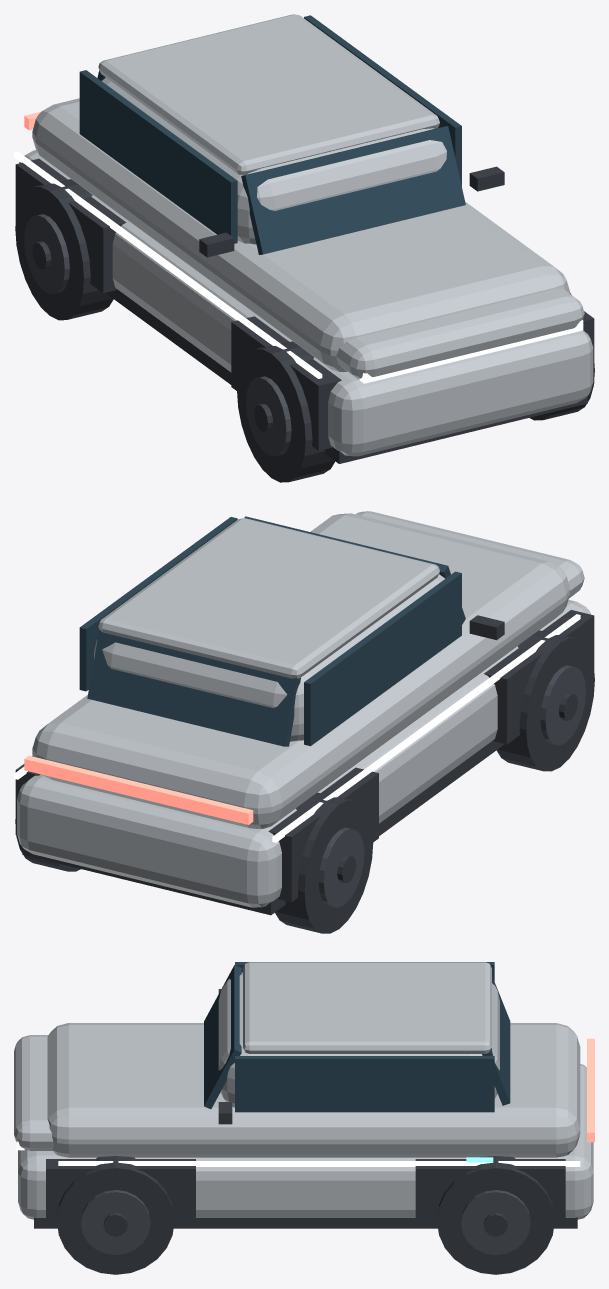
File: vehicle.glb
The picture shows the model from 3 angles, top to bottom: view 1: azimuth 30°, elevation 25°; view 2: azimuth 150°, elevation 25°; view 3: azimuth 270°, elevation 25°; orthographic projection. The views are drawn at different scales.
Parts seen in each view (by area): view 1: part_body_upper, part_roof, part_body_lower, part_windshield, part_side_glass_0, part_hood, part_cabin, part_wheel_0, part_wheel_2, part_arch_0, part_arch_2, part_skirt (+7 smaller); view 2: part_body_upper, part_roof, part_body_lower, part_side_glass_0, part_rear_glass, part_cabin, part_wheel_2, part_wheel_0, part_tail, part_arch_0, part_arch_2, part_skirt (+7 smaller); view 3: part_body_upper, part_roof, part_body_lower, part_side_glass_1, part_wheel_1, part_wheel_3, part_hood, part_arch_1, part_arch_3, part_rim_3, part_rim_1, part_skirt (+7 smaller).
Boxes of the visible parts, x1,y1,x2,y2 form: part_body_upper: (32, 98, 569, 371); part_roof: (98, 14, 439, 175); part_body_lower: (19, 150, 593, 456); part_windshield: (241, 126, 465, 254); part_side_glass_0: (79, 70, 237, 243); part_hood: (336, 288, 584, 379); part_cabin: (101, 77, 446, 244); part_wheel_0: (237, 341, 335, 482); part_wheel_2: (15, 179, 113, 320); part_arch_0: (231, 316, 341, 450); part_arch_2: (15, 158, 126, 293); part_skirt: (105, 289, 587, 463); part_body_upper: (32, 513, 569, 828); part_roof: (98, 518, 439, 678); part_body_lower: (17, 600, 590, 907); part_side_glass_0: (304, 571, 461, 746); part_rear_glass: (87, 630, 300, 746); part_cabin: (94, 574, 444, 741); part_wheel_2: (275, 792, 373, 933); part_wheel_0: (496, 630, 594, 771); part_tail: (24, 755, 253, 824); part_arch_0: (484, 610, 594, 744); part_arch_2: (268, 767, 378, 901); part_skirt: (22, 740, 504, 915); part_body_upper: (47, 1023, 580, 1157); part_roof: (243, 962, 491, 1053); part_body_lower: (18, 1064, 593, 1219); part_side_glass_1: (235, 1056, 494, 1112); part_wheel_1: (57, 1156, 174, 1274); part_wheel_3: (437, 1156, 554, 1274); part_hood: (14, 1035, 53, 1150); part_arch_1: (46, 1159, 195, 1224); part_arch_3: (415, 1159, 565, 1224); part_rim_3: (461, 1190, 530, 1254); part_rim_1: (81, 1190, 150, 1254); part_skirt: (34, 1217, 577, 1228).
Bounding box in the file's own units: 2.29 × 1.75 × 4.34.
